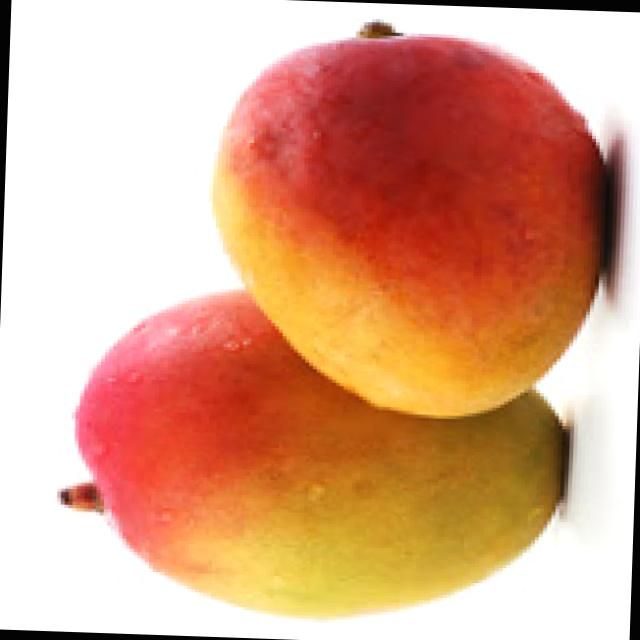mango: (49, 276, 593, 634), (205, 21, 612, 420)
